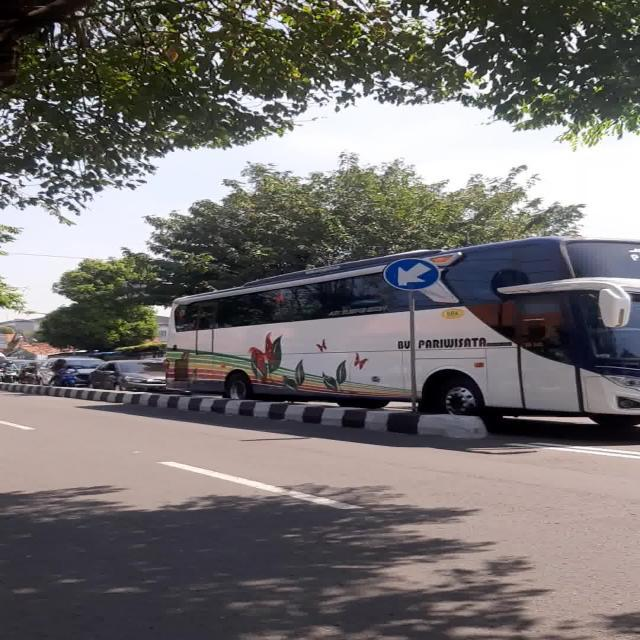Lajur Kiri: (383, 258, 441, 291)
